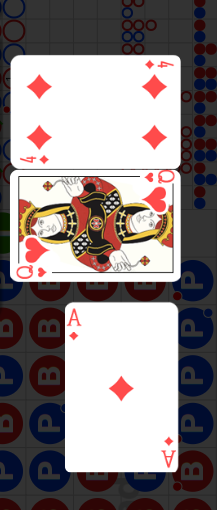4D: (19, 154, 51, 165)
AD: (67, 308, 84, 343), (159, 434, 176, 468)
